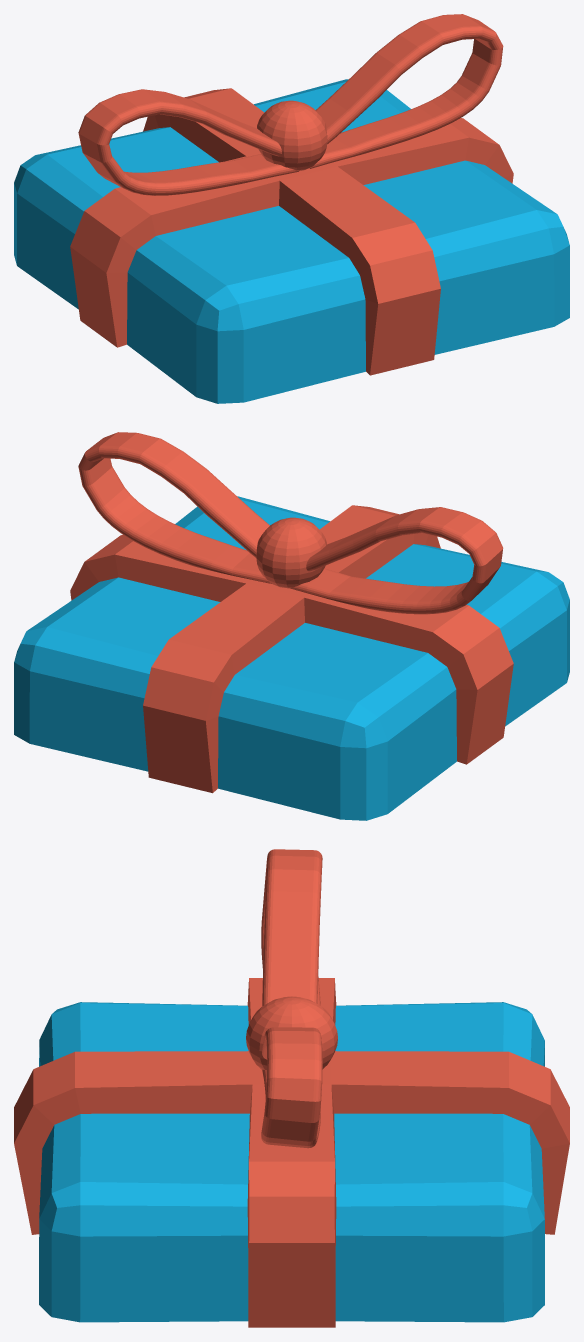
File: BoxCover.glb
3 views of the same model, one above another, from view 1: azimuth 30°, elevation 25°; view 2: azimuth 150°, elevation 25°; view 3: azimuth 270°, elevation 25° (orthographic). The views are drawn at different scales.
Parts seen in each view (by area): view 1: BoxCover; view 2: BoxCover; view 3: BoxCover.
Part boxes in pixels (x1,y1,x2,y2): BoxCover: (14,14,569,403); BoxCover: (14,432,569,820); BoxCover: (14,849,569,1327).
Size of the model in its own units: 0.9615 by 0.5095 by 0.9616.
